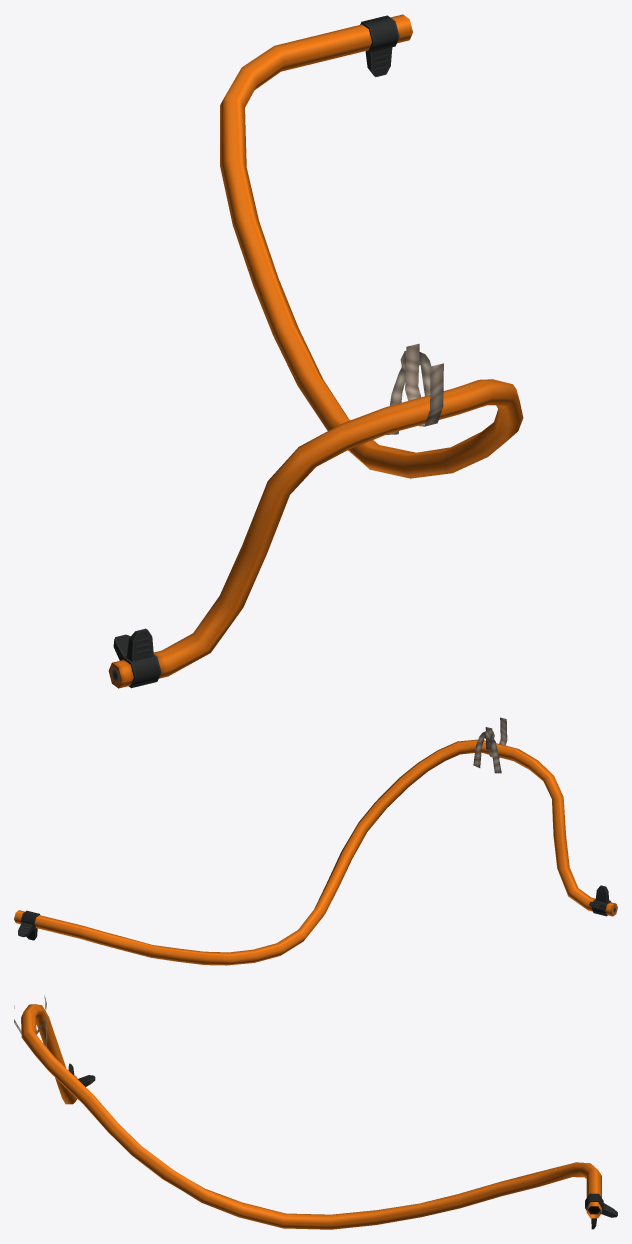
Rendered from jsf_GasRange_14c.fbx.
3 views of the same model, one above another, from view 1: azimuth 30°, elevation 25°; view 2: azimuth 150°, elevation 25°; view 3: azimuth 270°, elevation 25° (orthographic). The views are drawn at different scales.
Parts seen in each view (by area): view 1: GasHose; view 2: GasHose; view 3: GasHose.
Boxes of the visible parts, left/top/right/bottom form: GasHose: left=108, top=14, right=523, bottom=688; GasHose: left=14, top=717, right=617, bottom=965; GasHose: left=14, top=995, right=617, bottom=1229.
Size of the model in its own units: 56.81 by 23.12 by 69.18.
